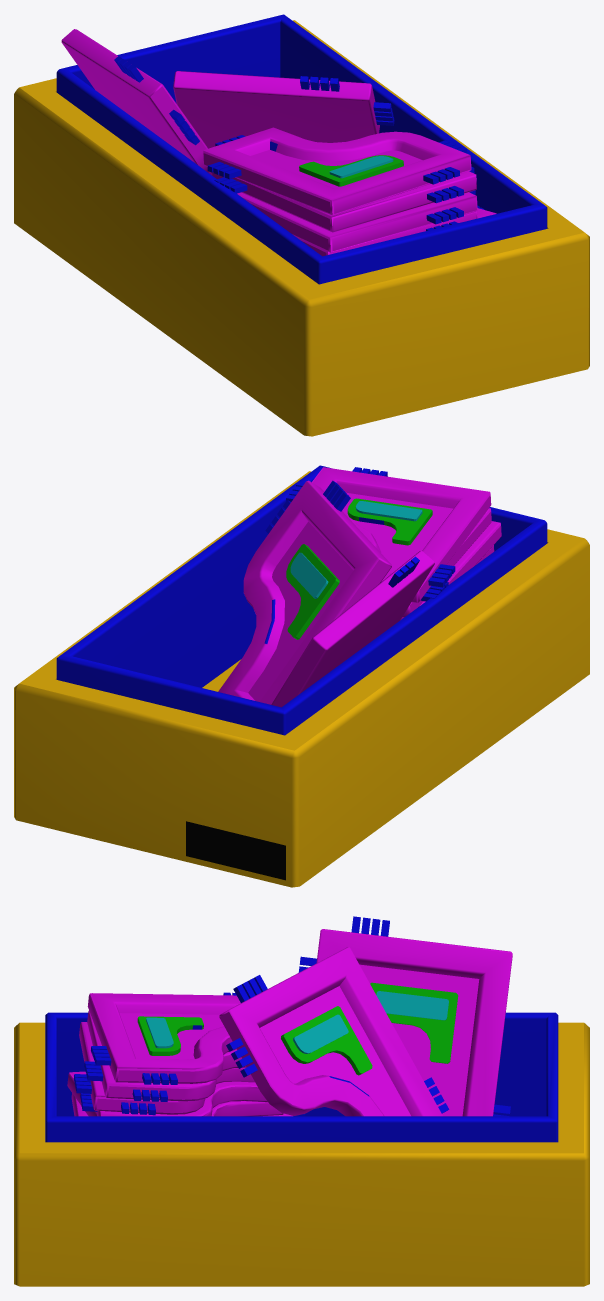
The model's file is SM0079_Lobby_PremiumChip_01_C1.fbx.
The picture shows the model from 3 angles, top to bottom: view 1: azimuth 30°, elevation 25°; view 2: azimuth 150°, elevation 25°; view 3: azimuth 270°, elevation 25°; orthographic projection. The views are drawn at different scales.
Parts seen in each view (by area): view 1: SM0079_Lobby_PremiumChip_01_C1; view 2: SM0079_Lobby_PremiumChip_01_C1; view 3: SM0079_Lobby_PremiumChip_01_C1.
Boxes of the visible parts, left/top/right/bottom form: SM0079_Lobby_PremiumChip_01_C1: left=14, top=14, right=589, bottom=436; SM0079_Lobby_PremiumChip_01_C1: left=14, top=465, right=589, bottom=887; SM0079_Lobby_PremiumChip_01_C1: left=14, top=916, right=589, bottom=1286.
Bounding box in the file's own units: 112 × 200 × 90.43.
